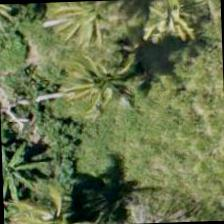Kelapa_Sawit: (54, 39, 148, 132), (35, 0, 128, 72), (123, 0, 216, 72)
